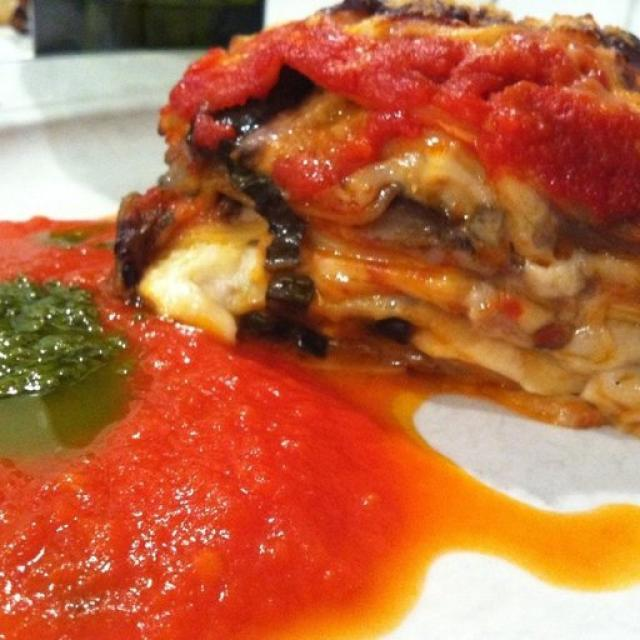Lasagna: (122, 20, 640, 386)
